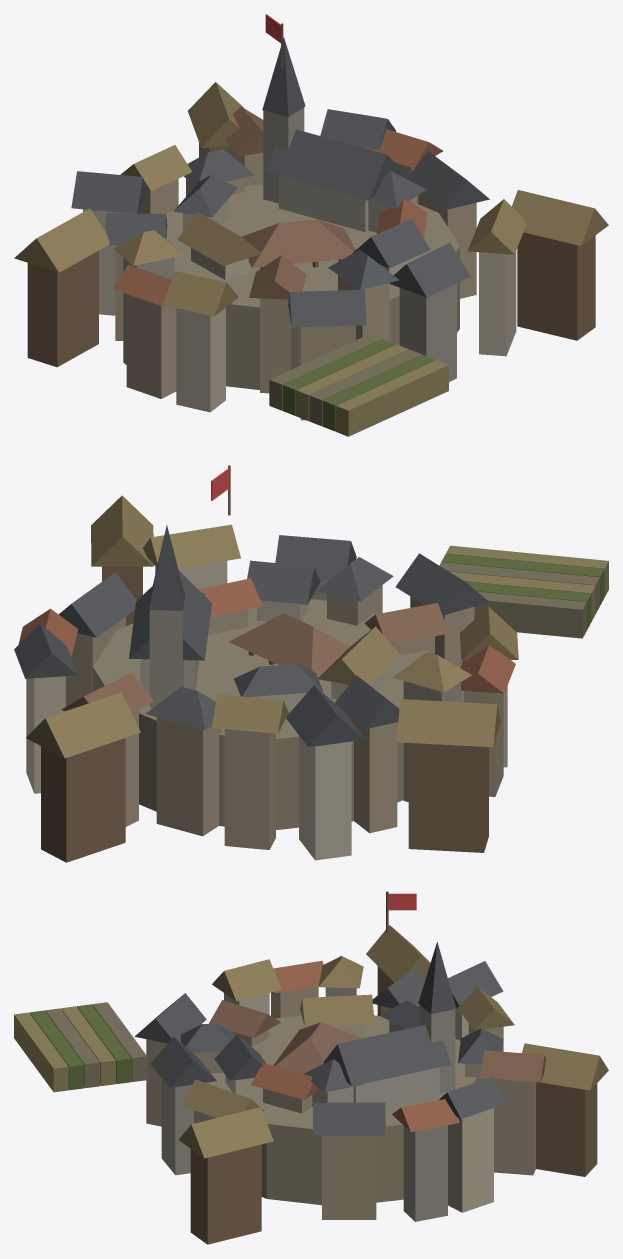
Rendered from bourg_b.glb.
The picture shows the model from 3 angles, top to bottom: view 1: azimuth 30°, elevation 25°; view 2: azimuth 150°, elevation 25°; view 3: azimuth 270°, elevation 25°; orthographic projection. The views are drawn at different scales.
Visible parts, largest first — view 1: bourg_b; view 2: bourg_b; view 3: bourg_b.
Part boxes in pixels (x1=…): bourg_b: x1=14, y1=14, x2=608, y2=436; bourg_b: x1=14, y1=465, x2=608, y2=862; bourg_b: x1=14, y1=891, x2=608, y2=1244.
Bounding box in the file's own units: 2.25 × 1.27 × 2.66.
